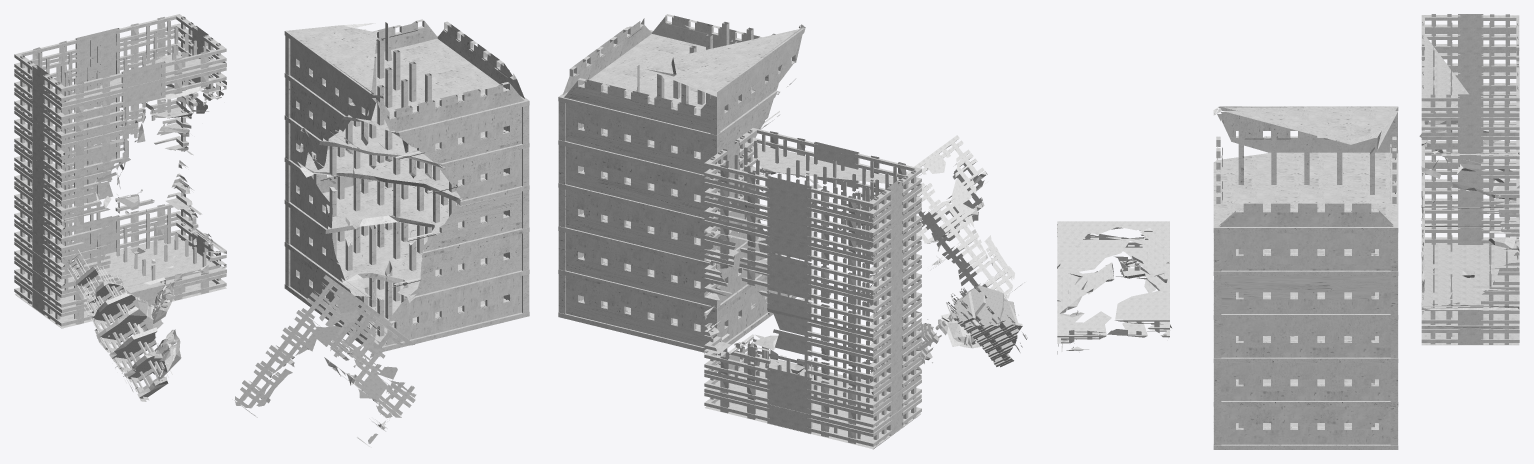
File: ruins13.glb
3 renders of one model, left to right at view 1: azimuth 30°, elevation 25°; view 2: azimuth 150°, elevation 25°; view 3: azimuth 270°, elevation 25°, orthographic. The views are drawn at different scales.
Visible parts, largest first — view 1: Cube.007, Cube.002, Cube.047, Plane.002; view 2: Cube.007, Cube.002, Cube.047, Plane.002; view 3: Cube.007, Cube.002, Cube.047.
Part boxes in pixels (left/top/right/bottom): Cube.007: left=284, top=19, right=529, bottom=351; Cube.002: left=14, top=14, right=226, bottom=328; Cube.047: left=234, top=275, right=416, bottom=447; Plane.002: left=63, top=249, right=181, bottom=401; Cube.007: left=558, top=14, right=805, bottom=355; Cube.002: left=704, top=128, right=921, bottom=449; Cube.047: left=838, top=135, right=1025, bottom=298; Plane.002: left=870, top=284, right=1027, bottom=376; Cube.007: left=1213, top=106, right=1398, bottom=449; Cube.002: left=1419, top=14, right=1519, bottom=345; Cube.047: left=1057, top=221, right=1171, bottom=354.
Size of the model in its own units: 327 by 220 by 320.
1 material, 1 textured.
